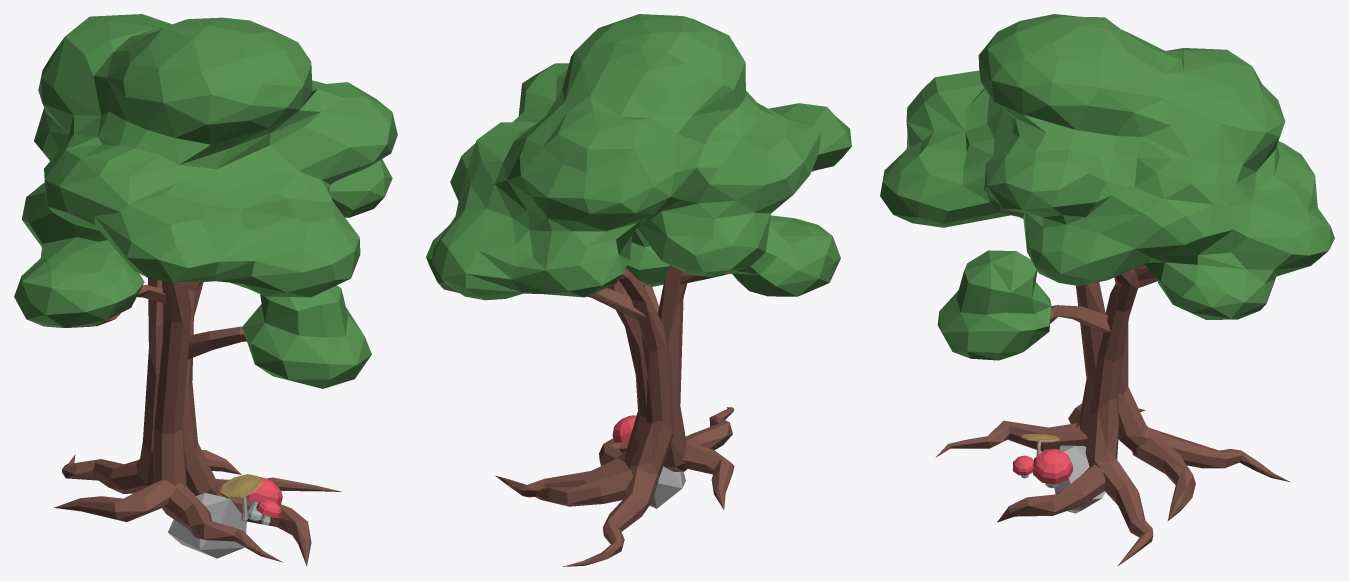
Rendered from Big_Tree.fbx.
The picture shows the model from 3 angles, left to right: view 1: azimuth 30°, elevation 25°; view 2: azimuth 150°, elevation 25°; view 3: azimuth 270°, elevation 25°; orthographic projection. The views are drawn at different scales.
Visible parts, largest first — view 1: Cylinder.035; view 2: Cylinder.035; view 3: Cylinder.035.
Part boxes in pixels (bbox=[...]): Cylinder.035: bbox=[14, 14, 397, 566]; Cylinder.035: bbox=[426, 14, 851, 566]; Cylinder.035: bbox=[880, 14, 1334, 566].
Bounding box in the file's own units: 402 × 555 × 472.
